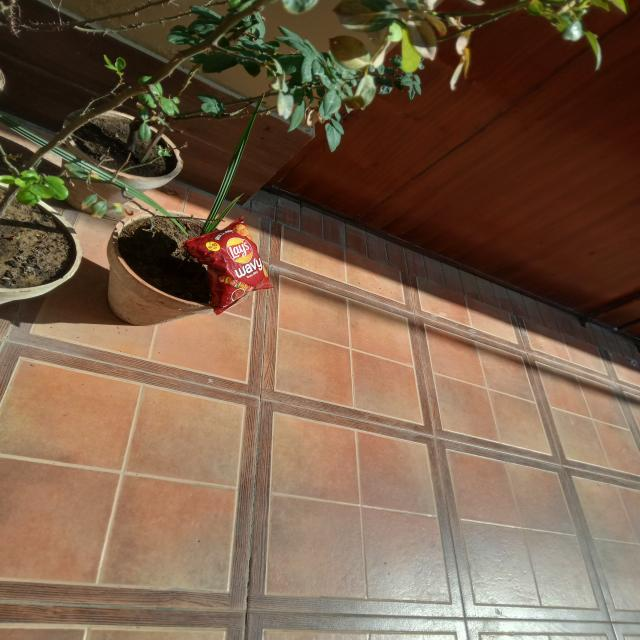Plastic: (186, 220, 278, 316)
